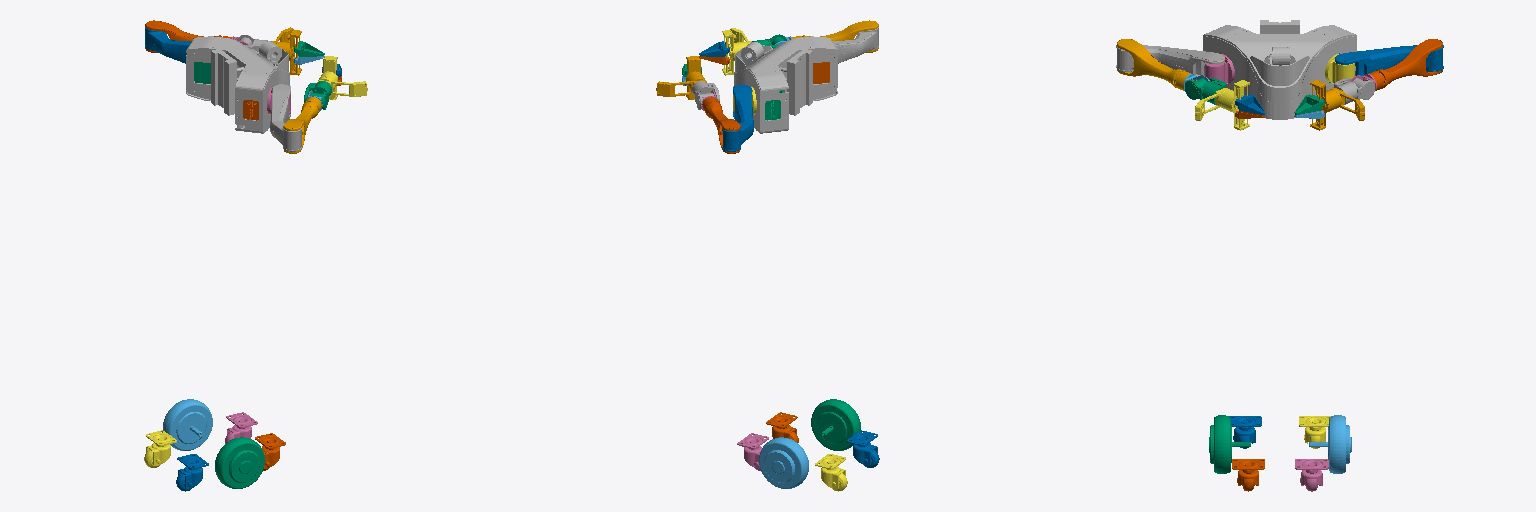
--- Facts derived from the render (not from the file) ---
The picture shows the robot from 3 angles, left to right: view 1: azimuth 30°, elevation 25°; view 2: azimuth 150°, elevation 25°; view 3: azimuth 270°, elevation 25°; orthographic projection.
Model mmk2 with 32 links and 31 joints (15 revolute, 1 continuous, 5 prismatic, 10 fixed), rooted at base_link, posed all joints at 0.
Visible links, largest first — view 1: slide_link, rgt_wheel_link, lft_wheel_link, right_link2, left_link2, right_link6, rgt_behind_wheel_link, lft_behind_wheel_link, right_link3, left_link6, lft_front_wheel_link, rgt_front_wheel_link (+1 smaller); view 2: slide_link, lft_wheel_link, rgt_wheel_link, left_link2, right_link2, left_link6, rgt_behind_wheel_link, lft_behind_wheel_link, left_link3, right_link6, rgt_front_wheel_link, lft_front_wheel_link (+1 smaller); view 3: slide_link, left_link2, right_link2, right_link3, left_link3, lft_wheel_link, rgt_wheel_link, left_link6, right_link6, lft_front_wheel_link, rgt_front_wheel_link, lft_behind_wheel_link (+4 smaller).
Boxes of the visible links, box(x1,y1,x2,y2) form: slide_link: box(186, 36, 290, 133); rgt_wheel_link: box(215, 437, 264, 488); lft_wheel_link: box(163, 399, 212, 450); right_link2: box(270, 84, 301, 151); left_link2: box(145, 27, 191, 63); right_link6: box(315, 56, 367, 99); rgt_behind_wheel_link: box(144, 430, 176, 467); lft_behind_wheel_link: box(176, 454, 208, 491); right_link3: box(283, 97, 321, 153); left_link6: box(272, 27, 301, 75); lft_front_wheel_link: box(225, 412, 257, 443); rgt_front_wheel_link: box(255, 433, 285, 470); slide_link: box(733, 36, 837, 133); lft_wheel_link: box(759, 437, 808, 488); rgt_wheel_link: box(811, 399, 860, 450); left_link2: box(722, 85, 753, 151); right_link2: box(832, 27, 878, 63); left_link6: box(656, 56, 708, 99); rgt_behind_wheel_link: box(815, 454, 847, 491); lft_behind_wheel_link: box(847, 430, 879, 467); left_link3: box(702, 97, 740, 153); right_link6: box(722, 28, 751, 75); rgt_front_wheel_link: box(766, 412, 798, 442); lft_front_wheel_link: box(737, 433, 768, 470); slide_link: box(1203, 20, 1356, 119); left_link2: box(1335, 45, 1443, 75); right_link2: box(1116, 45, 1224, 75); right_link3: box(1117, 39, 1196, 90); left_link3: box(1363, 39, 1442, 90); lft_wheel_link: box(1309, 415, 1351, 473); rgt_wheel_link: box(1209, 415, 1250, 473); left_link6: box(1310, 80, 1364, 130); right_link6: box(1195, 80, 1249, 130); lft_front_wheel_link: box(1295, 459, 1328, 491); rgt_front_wheel_link: box(1232, 459, 1264, 491); lft_behind_wheel_link: box(1229, 416, 1261, 448).
Size in the robot's own frame: 0.6187 by 0.927 by 1.42 metres.
26 mesh visuals loaded from 14 distinct referenced files (12 OBJ); not drawn: 2 (reference not matched to a file when rendering).

URDF robot description (mmk2):
<?xml version="1.0" ?>
<!-- =================================================================================== -->
<!-- |    This document was autogenerated by xacro from robot.xacro                    | -->
<!-- |    EDITING THIS FILE BY HAND IS NOT RECOMMENDED                                 | -->
<!-- =================================================================================== -->
<robot name="mmk2">
  <link name="base_link">
    <inertial>
      <origin xyz="-0.0400313721989715 -0.0226608008968248 0.756257223317173"/>
      <mass value="33.0267456398628"/>
      <inertia ixx="3.44838378637062" ixy="-0.00207943141138886" ixz="-0.0103091786755565" iyy="3.49493780774117" iyz="-0.00146679448998739" izz="0.21980548376876"/>
    </inertial>
    <visual>
      <geometry>
        <mesh filename="package://airbot_mmk2_description/meshes/base_link.obj"/>
      </geometry>
    </visual>
    <collision>
      <geometry>
        <mesh filename="package://airbot_mmk2_description/meshes/base_link.obj"/>
      </geometry>
    </collision>
  </link>
  <link name="lft_wheel_link">
    <inertial>
      <origin xyz="2.9309E-07 5.2077E-06 -0.029871"/>
      <mass value="1.1566"/>
      <inertia ixx="0.0021045" ixy="6.963E-10" ixz="-1.9831E-08" iyy="0.0021045" iyz="-3.5159E-07" izz="0.0035528"/>
    </inertial>
    <visual>
      <geometry>
        <mesh filename="package://airbot_mmk2_description/meshes/drive_wheel.obj"/>
      </geometry>
    </visual>
    <collision>
      <geometry>
        <mesh filename="package://airbot_mmk2_description/meshes/drive_wheel.obj"/>
      </geometry>
    </collision>
  </link>
  <joint name="lft_wheel_joint" type="continuous">
    <origin rpy="1.5708 1.5708 0" xyz="0 0.16325 0.08401"/>
    <parent link="base_link"/>
    <child link="lft_wheel_link"/>
    <axis xyz="0 0 -1"/>
  </joint>
  <link name="rgt_wheel_link">
    <inertial>
      <origin xyz="2.9312E-07 5.2196E-06 0.029871"/>
      <mass value="1.1566"/>
      <inertia ixx="0.0021045" ixy="-8.6762E-11" ixz="1.9824E-08" iyy="0.0021045" iyz="3.5159E-07" izz="0.0035528"/>
    </inertial>
    <visual>
      <geometry>
        <mesh filename="package://airbot_mmk2_description/meshes/drive_wheel.obj" scale="1 1 -1"/>
      </geometry>
    </visual>
    <collision>
      <geometry>
        <mesh filename="package://airbot_mmk2_description/meshes/drive_wheel.obj" scale="1 1 -1"/>
      </geometry>
    </collision>
  </link>
  <joint name="rgt_wheel_joint" type="revolute">
    <origin rpy="1.5708 1.5708 0" xyz="0 -0.16325 0.08401"/>
    <parent link="base_link"/>
    <child link="rgt_wheel_link"/>
    <axis xyz="0 0 1"/>
    <limit effort="6.5" lower="-3.1416" upper="3.1416" velocity="0.7"/>
  </joint>
  <link name="rgt_behind_wheel_link">
    <inertial>
      <origin xyz="0.0098797 -0.26998 -0.044087"/>
      <mass value="0.15002"/>
      <inertia ixx="0.00016534" ixy="1.4827E-07" ixz="-2.9264E-07" iyy="0.00014609" iyz="4.0633E-05" izz="9.3638E-05"/>
    </inertial>
    <visual>
      <geometry>
        <mesh filename="package://airbot_mmk2_description/meshes/support_wheel.obj"/>
      </geometry>
    </visual>
    <collision>
      <geometry>
        <mesh filename="package://airbot_mmk2_description/meshes/support_wheel.obj"/>
      </geometry>
    </collision>
  </link>
  <joint name="rgt_behind_wheel_joint" type="fixed">
    <origin xyz="-0.1315 0.1 0.097"/>
    <parent link="base_link"/>
    <child link="rgt_behind_wheel_link"/>
  </joint>
  <link name="lft_behind_wheel_link">
    <inertial>
      <origin xyz="-0.01012 -0.26998 -0.044087"/>
      <mass value="0.15002"/>
      <inertia ixx="0.00016534" ixy="1.4827E-07" ixz="-2.9264E-07" iyy="0.00014609" iyz="4.0633E-05" izz="9.3638E-05"/>
    </inertial>
    <visual>
      <geometry>
        <mesh filename="package://airbot_mmk2_description/meshes/support_wheel.obj"/>
      </geometry>
    </visual>
    <collision>
      <geometry>
        <mesh filename="package://airbot_mmk2_description/meshes/support_wheel.obj"/>
      </geometry>
    </collision>
  </link>
  <joint name="lft_behind_wheel_joint" type="fixed">
    <origin xyz="-0.1315 -0.1 0.097"/>
    <parent link="base_link"/>
    <child link="lft_behind_wheel_link"/>
  </joint>
  <link name="rgt_front_wheel_link">
    <inertial>
      <origin xyz="-0.01012 0.30602 -0.044087"/>
      <mass value="0.15002"/>
      <inertia ixx="0.00016534" ixy="1.4827E-07" ixz="-2.9264E-07" iyy="0.00014609" iyz="4.0633E-05" izz="9.3637E-05"/>
    </inertial>
    <visual>
      <geometry>
        <mesh filename="package://airbot_mmk2_description/meshes/support_wheel.obj"/>
      </geometry>
    </visual>
    <collision>
      <geometry>
        <mesh filename="package://airbot_mmk2_description/meshes/support_wheel.obj"/>
      </geometry>
    </collision>
  </link>
  <joint name="rgt_front_wheel_joint" type="fixed">
    <origin xyz="0.15482 -0.0895 0.097"/>
    <parent link="base_link"/>
    <child link="rgt_front_wheel_link"/>
  </joint>
  <link name="lft_front_wheel_link">
    <inertial>
      <origin xyz="0.0098797 0.30602 -0.044087"/>
      <mass value="0.15002"/>
      <inertia ixx="0.00016534" ixy="1.4827E-07" ixz="-2.9264E-07" iyy="0.00014609" iyz="4.0633E-05" izz="9.3637E-05"/>
    </inertial>
    <visual>
      <geometry>
        <mesh filename="package://airbot_mmk2_description/meshes/support_wheel.obj"/>
      </geometry>
    </visual>
    <collision>
      <geometry>
        <mesh filename="package://airbot_mmk2_description/meshes/support_wheel.obj"/>
      </geometry>
    </collision>
  </link>
  <joint name="lft_front_wheel_joint" type="fixed">
    <origin xyz="0.15482 0.0895 0.097"/>
    <parent link="base_link"/>
    <child link="lft_front_wheel_link"/>
  </joint>
  <link name="slide_link">
    <inertial>
      <origin xyz="-7.90494393625066E-05 0.067355217450789 0.10519083626064"/>
      <mass value="2.87043102920673"/>
      <inertia ixx="0.00899755064402379" ixy="6.09937870252811E-07" ixz="2.90775161414524E-06" iyy="0.0119634133355932" iyz="-0.000250919444280722" izz="0.00864817587777869"/>
    </inertial>
    <visual>
      <geometry>
        <mesh filename="package://airbot_mmk2_description/meshes/slide.obj"/>
      </geometry>
      <material name="">
        <color rgba="0.752941176470588 0.752941176470588 0.752941176470588 1"/>
      </material>
    </visual>
    <collision>
      <geometry>
        <mesh filename="package://airbot_mmk2_description/meshes/slide.obj"/>
      </geometry>
    </collision>
  </link>
  <joint name="slide_joint" type="prismatic">
    <origin rpy="3.1416 0 1.5708" xyz="0.033942 -0.00025 1.406"/>
    <parent link="base_link"/>
    <child link="slide_link"/>
    <axis xyz="0 0 1"/>
    <limit effort="5" lower="-0.04" upper="0.87" velocity="0.3"/>
  </joint>
  <link name="head_yaw_link">
    <inertial>
      <origin xyz="0.0118490941462296 0.000491254783341499 0.0390231494943873"/>
      <mass value="0.263127360420809"/>
      <inertia ixx="0.000185798854547827" ixy="2.64309797822853E-07" ixz="-2.93582511724902E-05" iyy="0.000173833362201622" iyz="-2.8054841555532E-06" izz="9.38655776831082E-05"/>
    </inertial>
    <visual>
      <geometry>
        <mesh filename="package://airbot_mmk2_description/meshes/head_yaw.obj"/>
      </geometry>
      <material name="">
        <color rgba="0.752941176470588 0.752941176470588 0.752941176470588 1"/>
      </material>
    </visual>
    <collision>
      <geometry>
        <mesh filename="package://airbot_mmk2_description/meshes/head_yaw.obj"/>
      </geometry>
    </collision>
  </link>
  <joint name="head_yaw_joint" type="revolute">
    <origin rpy="3.1416 0 0" xyz="0 0.1735 0.07242"/>
    <parent link="slide_link"/>
    <child link="head_yaw_link"/>
    <axis xyz="0 0 1"/>
    <limit effort="2" lower="-0.5" upper="0.5" velocity="0.2"/>
  </joint>
  <link name="head_pitch_link">
    <inertial>
      <origin xyz="0.0244659096221799 -0.108421751901101 -0.00311687659834824"/>
      <mass value="0.500765947013434"/>
      <inertia ixx="0.00157924187002826" ixy="2.16781765858799E-05" ixz="-1.02638171835218E-06" iyy="0.000804096450222595" iyz="1.48815549401623E-05" izz="0.00113048749298996"/>
    </inertial>
    <visual>
      <geometry>
        <mesh filename="package://airbot_mmk2_description/meshes/head_pitch.obj"/>
      </geometry>
      <material name="">
        <color rgba="0.752941176470588 0.752941176470588 0.752941176470588 1"/>
      </material>
    </visual>
    <collision>
      <geometry>
        <mesh filename="package://airbot_mmk2_description/meshes/head_pitch.obj"/>
      </geometry>
    </collision>
  </link>
  <joint name="head_pitch_joint" type="revolute">
    <origin rpy="-1.5708 0 -1.5397" xyz="0.00099952 3.1059E-05 0.058"/>
    <parent link="head_yaw_link"/>
    <child link="head_pitch_link"/>
    <axis xyz="0 0 1"/>
    <limit effort="2" lower="-0.16" upper="1.18" velocity="0.2"/>
  </joint>
  <!-- left arm -->
  <joint name="left_arm_fixed_joint" type="fixed">
    <origin rpy="1.57079633 0 2.356194490192345" xyz="0.10174 0.02283 0.09475"/>
    <parent link="slide_link"/>
    <child link="left_base_link"/>
  </joint>
  <link name="left_base_link">
    <inertial>
      <origin xyz="-0.010729 -0.00017015 0.041712"/>
      <mass value="0.77705"/>
      <inertia ixx="0.0008454" ixy="-7.5E-06" ixz="2.06E-05" iyy="0.0011821" iyz="-6.4E-06" izz="0.0012443"/>
    </inertial>
    <visual>
      <geometry>
        <mesh filename="package://airbot_play_description/meshes/arm_base.obj"/>
      </geometry>
    </visual>
    <collision>
      <geometry>
        <mesh filename="package://airbot_play_description/meshes/arm_base.obj"/>
      </geometry>
    </collision>
  </link>
  <link name="left_link1">
    <inertial>
      <origin xyz="7.9126E-05 -0.002527 -0.0041359"/>
      <mass value="0.54639"/>
      <inertia ixx="0.0003462" ixy="0" ixz="-1.4E-06" iyy="0.0002863" iyz="-1.1E-06" izz="0.0003255"/>
    </inertial>
    <visual>
      <geometry>
        <mesh filename="package://airbot_play_description/meshes/link1.obj"/>
      </geometry>
    </visual>
    <collision>
      <geometry>
        <mesh filename="package://airbot_play_description/meshes/link1.obj"/>
      </geometry>
    </collision>
  </link>
  <joint name="left_joint1" type="revolute">
    <origin xyz="0 0 0.1172"/>
    <parent link="left_base_link"/>
    <child link="left_link1"/>
    <axis xyz="0 0 1"/>
    <limit effort="18" lower="-3.14" upper="2.09" velocity="3.14"/>
  </joint>
  <link name="left_link2">
    <inertial>
      <origin xyz="0.22493 0.0047721 0.008023"/>
      <mass value="0.64621"/>
      <inertia ixx="0.0004901" ixy="0.0005229" ixz="-0.0002434" iyy="0.0050391" iyz="-2.95E-05" izz="0.0051052"/>
    </inertial>
    <visual>
      <geometry>
        <mesh filename="package://airbot_play_description/meshes/link2.obj"/>
      </geometry>
    </visual>
    <collision>
      <geometry>
        <mesh filename="package://airbot_play_description/meshes/link2.obj"/>
      </geometry>
    </collision>
  </link>
  <joint name="left_joint2" type="revolute">
    <origin rpy="1.5708 -2.7549 0"/>
    <parent link="left_link1"/>
    <child link="left_link2"/>
    <axis xyz="0 0 1"/>
    <limit effort="18" lower="-2.96" upper="0.17" velocity="3.14"/>
  </joint>
  <link name="left_link3">
    <inertial>
      <origin xyz="0.16813 -5.5576E-05 0.0031184"/>
      <mass value="0.26829"/>
      <inertia ixx="0.000245" ixy="-4E-07" ixz="-0.0001263" iyy="0.0031527" iyz="-1E-07" izz="0.0030895"/>
    </inertial>
    <visual>
      <geometry>
        <mesh filename="package://airbot_play_description/meshes/link3.obj"/>
      </geometry>
    </visual>
    <collision>
      <geometry>
        <mesh filename="package://airbot_play_description/meshes/link3.obj"/>
      </geometry>
    </collision>
  </link>
  <joint name="left_joint3" type="revolute">
    <origin rpy="0 0 -2.7549" xyz="0.27009 0 0"/>
    <parent link="left_link2"/>
    <child link="left_link3"/>
    <axis xyz="0 0 1"/>
    <limit effort="18" lower="-0.087" upper="3.14" velocity="3.14"/>
  </joint>
  <link name="left_link4">
    <inertial>
      <origin xyz="5.2436E-06 0.00040412 -0.03228"/>
      <mass value="0.34876"/>
      <inertia ixx="0.0004235" ixy="0" ixz="4.7E-06" iyy="0.000412" iyz="-1E-07" izz="0.0001269"/>
    </inertial>
    <visual>
      <geometry>
        <mesh filename="package://airbot_play_description/meshes/link4.obj"/>
      </geometry>
    </visual>
    <collision>
      <geometry>
        <mesh filename="package://airbot_play_description/meshes/link4.obj"/>
      </geometry>
    </collision>
  </link>
  <joint name="left_joint4" type="revolute">
    <origin rpy="3.1416 -1.5708 0" xyz="0.29015 0 0"/>
    <parent link="left_link3"/>
    <child link="left_link4"/>
    <axis xyz="0 0 1"/>
    <limit effort="300" lower="-2.96" upper="2.96" velocity="6.28"/>
  </joint>
  <link name="left_link5">
    <inertial>
      <origin xyz="8.3328E-06 0.026148 0.002525"/>
      <mass value="0.36132"/>
      <inertia ixx="0.0001825" ixy="0" ixz="-3.29E-05" iyy="0.0004677" iyz="0" izz="0.0004286"/>
    </inertial>
    <visual>
      <geometry>
        <mesh filename="package://airbot_play_description/meshes/link5.obj"/>
      </geometry>
    </visual>
    <collision>
      <geometry>
        <mesh filename="package://airbot_play_description/meshes/link5.obj"/>
      </geometry>
    </collision>
  </link>
  <joint name="left_joint5" type="revolute">
    <origin rpy="1.5708 0 0"/>
    <parent link="left_link4"/>
    <child link="left_link5"/>
    <axis xyz="0 0 1"/>
    <limit effort="300" lower="-1.74" upper="1.74" velocity="6.28"/>
  </joint>
  <link name="left_link6">
    <inertial>
      <origin xyz="-0.0047053 7.3857E-05 -0.12293"/>
      <mass value="0.53855"/>
      <inertia ixx="5E-05" ixy="0" ixz="0" iyy="5E-05" iyz="0" izz="3.85E-05"/>
    </inertial>
    <visual>
      <geometry>
        <mesh filename="package://airbot_play_description/meshes/link6.obj"/>
      </geometry>
    </visual>
    <collision>
      <geometry>
        <mesh filename="package://airbot_play_description/meshes/link6.obj"/>
      </geometry>
    </collision>
  </link>
  <joint name="left_joint6" type="revolute">
    <origin rpy="-1.5708 1.5708 0" xyz="0 0.23645 0"/>
    <parent link="left_link5"/>
    <child link="left_link6"/>
    <axis xyz="0 0 1"/>
    <limit effort="300" lower="-3.14" upper="3.14" velocity="6.28"/>
  </joint>
  <link name="left_left">
    <inertial>
      <origin xyz="-0.049039 -0.0096764 0.00038868"/>
      <mass value="0.061803"/>
      <inertia ixx="1.8946E-05" ixy="-1.3168E-06" ixz="-6.5528E-07" iyy="2.7277E-05" iyz="-2.0801E-07" izz="1.1981E-05"/>
    </inertial>
    <visual>
      <geometry>
        <mesh filename="package://airbot_play_description/meshes/gripper.obj" scale="1 -1 1"/>
      </geometry>
    </visual>
    <collision>
      <geometry>
        <mesh filename="package://airbot_play_description/meshes/gripper.obj" scale="1 -1 1"/>
      </geometry>
    </collision>
  </link>
  <joint name="left_gripper_joint" type="prismatic">
    <origin rpy="0 -1.5708 0"/>
    <parent link="left_link6"/>
    <child link="left_left"/>
    <axis xyz="0 1 0"/>
    <limit effort="100" lower="0" upper="0.04" velocity="2"/>
  </joint>
  <link name="left_right">
    <inertial>
      <origin xyz="-0.048742 0.0096369 0.00044322"/>
      <mass value="0.0626"/>
      <inertia ixx="1.915E-05" ixy="1.343E-06" ixz="-6.8259E-07" iyy="2.7722E-05" iyz="2.0748E-07" izz="1.2248E-05"/>
    </inertial>
    <visual>
      <geometry>
        <mesh filename="package://airbot_play_description/meshes/gripper.obj"/>
      </geometry>
    </visual>
    <collision>
      <geometry>
        <mesh filename="package://airbot_play_description/meshes/gripper.obj"/>
      </geometry>
    </collision>
  </link>
  <joint name="left_endright" type="prismatic">
    <origin rpy="0 -1.5708 0"/>
    <parent link="left_link6"/>
    <child link="left_right"/>
    <axis xyz="0 -1 0"/>
    <limit effort="100" lower="0" upper="0.04" velocity="2"/>
    <mimic joint="left_gripper_joint" multiplier="1" offset="0"/>
  </joint>
  <link name="left_gripper_center"/>
  <joint name="left_joint_custom_end" type="fixed">
    <origin rpy="0 -1.5708 0" xyz="0 0 0.02"/>
    <parent link="left_link6"/>
    <child link="left_gripper_center"/>
  </joint>
  <link name="left_camera_link"/>
  <joint name="left_camera_joint" type="fixed">
    <origin rpy="0 -1.046 0" xyz="-0.105 0 -0.111"/>
    <parent link="left_link6"/>
    <child link="left_camera_link"/>
  </joint>
  <!-- right arm -->
  <joint name="right_arm_fixed_joint" type="fixed">
    <origin rpy="-1.57079633 0 0.7853981633974483" xyz="-0.10174 0.02283 0.09475"/>
    <parent link="slide_link"/>
    <child link="right_base_link"/>
  </joint>
  <link name="right_base_link">
    <inertial>
      <origin xyz="-0.010729 -0.00017015 0.041712"/>
      <mass value="0.77705"/>
      <inertia ixx="0.0008454" ixy="-7.5E-06" ixz="2.06E-05" iyy="0.0011821" iyz="-6.4E-06" izz="0.0012443"/>
    </inertial>
    <visual>
      <geometry>
        <mesh filename="package://airbot_play_description/meshes/arm_base.obj"/>
      </geometry>
    </visual>
    <collision>
      <geometry>
        <mesh filename="package://airbot_play_description/meshes/arm_base.obj"/>
      </geometry>
    </collision>
  </link>
  <link name="right_link1">
    <inertial>
      <origin xyz="7.9126E-05 -0.002527 -0.0041359"/>
      <mass value="0.54639"/>
      <inertia ixx="0.0003462" ixy="0" ixz="-1.4E-06" iyy="0.0002863" iyz="-1.1E-06" izz="0.0003255"/>
    </inertial>
    <visual>
      <geometry>
        <mesh filename="package://airbot_play_description/meshes/link1.obj"/>
      </geometry>
    </visual>
    <collision>
      <geometry>
        <mesh filename="package://airbot_play_description/meshes/link1.obj"/>
      </geometry>
    </collision>
  </link>
  <joint name="right_joint1" type="revolute">
    <origin xyz="0 0 0.1172"/>
    <parent link="right_base_link"/>
    <child link="right_link1"/>
    <axis xyz="0 0 1"/>
    <limit effort="18" lower="-3.14" upper="2.09" velocity="3.14"/>
  </joint>
  <link name="right_link2">
    <inertial>
      <origin xyz="0.22493 0.0047721 0.008023"/>
      <mass value="0.64621"/>
      <inertia ixx="0.0004901" ixy="0.0005229" ixz="-0.0002434" iyy="0.0050391" iyz="-2.95E-05" izz="0.0051052"/>
    </inertial>
    <visual>
      <geometry>
        <mesh filename="package://airbot_play_description/meshes/link2.obj"/>
      </geometry>
    </visual>
    <collision>
      <geometry>
        <mesh filename="package://airbot_play_description/meshes/link2.obj"/>
      </geometry>
    </collision>
  </link>
  <joint name="right_joint2" type="revolute">
    <origin rpy="1.5708 -2.7549 0"/>
    <parent link="right_link1"/>
    <child link="right_link2"/>
    <axis xyz="0 0 1"/>
    <limit effort="18" lower="-2.96" upper="0.17" velocity="3.14"/>
  </joint>
  <link name="right_link3">
    <inertial>
      <origin xyz="0.16813 -5.5576E-05 0.0031184"/>
      <mass value="0.26829"/>
      <inertia ixx="0.000245" ixy="-4E-07" ixz="-0.0001263" iyy="0.0031527" iyz="-1E-07" izz="0.0030895"/>
    </inertial>
    <visual>
      <geometry>
        <mesh filename="package://airbot_play_description/meshes/link3.obj"/>
      </geometry>
    </visual>
    <collision>
      <geometry>
        <mesh filename="package://airbot_play_description/meshes/link3.obj"/>
      </geometry>
    </collision>
  </link>
  <joint name="right_joint3" type="revolute">
    <origin rpy="0 0 -2.7549" xyz="0.27009 0 0"/>
    <parent link="right_link2"/>
    <child link="right_link3"/>
    <axis xyz="0 0 1"/>
    <limit effort="18" lower="-0.087" upper="3.14" velocity="3.14"/>
  </joint>
  <link name="right_link4">
    <inertial>
      <origin xyz="5.2436E-06 0.00040412 -0.03228"/>
      <mass value="0.34876"/>
      <inertia ixx="0.0004235" ixy="0" ixz="4.7E-06" iyy="0.000412" iyz="-1E-07" izz="0.0001269"/>
    </inertial>
    <visual>
      <geometry>
        <mesh filename="package://airbot_play_description/meshes/link4.obj"/>
      </geometry>
    </visual>
    <collision>
      <geometry>
        <mesh filename="package://airbot_play_description/meshes/link4.obj"/>
      </geometry>
    </collision>
  </link>
  <joint name="right_joint4" type="revolute">
    <origin rpy="3.1416 -1.5708 0" xyz="0.29015 0 0"/>
    <parent link="right_link3"/>
    <child link="right_link4"/>
    <axis xyz="0 0 1"/>
    <limit effort="300" lower="-2.96" upper="2.96" velocity="6.28"/>
  </joint>
  <link name="right_link5">
    <inertial>
      <origin xyz="8.3328E-06 0.026148 0.002525"/>
      <mass value="0.36132"/>
      <inertia ixx="0.0001825" ixy="0" ixz="-3.29E-05" iyy="0.0004677" iyz="0" izz="0.0004286"/>
    </inertial>
    <visual>
      <geometry>
        <mesh filename="package://airbot_play_description/meshes/link5.obj"/>
      </geometry>
    </visual>
    <collision>
      <geometry>
        <mesh filename="package://airbot_play_description/meshes/link5.obj"/>
      </geometry>
    </collision>
  </link>
  <joint name="right_joint5" type="revolute">
    <origin rpy="1.5708 0 0"/>
    <parent link="right_link4"/>
    <child link="right_link5"/>
    <axis xyz="0 0 1"/>
    <limit effort="300" lower="-1.74" upper="1.74" velocity="6.28"/>
  </joint>
  <link name="right_link6">
    <inertial>
      <origin xyz="-0.0047053 7.3857E-05 -0.12293"/>
      <mass value="0.53855"/>
      <inertia ixx="5E-05" ixy="0" ixz="0" iyy="5E-05" iyz="0" izz="3.85E-05"/>
    </inertial>
    <visual>
      <geometry>
        <mesh filename="package://airbot_play_description/meshes/link6.obj"/>
      </geometry>
    </visual>
    <collision>
      <geometry>
        <mesh filename="package://airbot_play_description/meshes/link6.obj"/>
      </geometry>
    </collision>
  </link>
  <joint name="right_joint6" type="revolute">
    <origin rpy="-1.5708 1.5708 0" xyz="0 0.23645 0"/>
    <parent link="right_link5"/>
    <child link="right_link6"/>
    <axis xyz="0 0 1"/>
    <limit effort="300" lower="-3.14" upper="3.14" velocity="6.28"/>
  </joint>
  <link name="right_left">
    <inertial>
      <origin xyz="-0.049039 -0.0096764 0.00038868"/>
      <mass value="0.061803"/>
      <inertia ixx="1.8946E-05" ixy="-1.3168E-06" ixz="-6.5528E-07" iyy="2.7277E-05" iyz="-2.0801E-07" izz="1.1981E-05"/>
    </inertial>
    <visual>
      <geometry>
        <mesh filename="package://airbot_play_description/meshes/gripper.obj" scale="1 -1 1"/>
      </geometry>
    </visual>
    <collision>
      <geometry>
        <mesh filename="package://airbot_play_description/meshes/gripper.obj" scale="1 -1 1"/>
      </geometry>
    </collision>
  </link>
  <joint name="right_gripper_joint" type="prismatic">
    <origin rpy="0 -1.5708 0"/>
    <parent link="right_link6"/>
    <child link="right_left"/>
    <axis xyz="0 1 0"/>
    <limit effort="100" lower="0" upper="0.04" velocity="2"/>
  </joint>
  <link name="right_right">
    <inertial>
      <origin xyz="-0.048742 0.0096369 0.00044322"/>
      <mass value="0.0626"/>
      <inertia ixx="1.915E-05" ixy="1.343E-06" ixz="-6.8259E-07" iyy="2.7722E-05" iyz="2.0748E-07" izz="1.2248E-05"/>
    </inertial>
    <visual>
      <geometry>
        <mesh filename="package://airbot_play_description/meshes/gripper.obj"/>
      </geometry>
    </visual>
    <collision>
      <geometry>
        <mesh filename="package://airbot_play_description/meshes/gripper.obj"/>
      </geometry>
    </collision>
  </link>
  <joint name="right_endright" type="prismatic">
    <origin rpy="0 -1.5708 0"/>
    <parent link="right_link6"/>
    <child link="right_right"/>
    <axis xyz="0 -1 0"/>
    <limit effort="100" lower="0" upper="0.04" velocity="2"/>
    <mimic joint="right_gripper_joint" multiplier="1" offset="0"/>
  </joint>
  <link name="right_gripper_center"/>
  <joint name="right_joint_custom_end" type="fixed">
    <origin rpy="0 -1.5708 0" xyz="0 0 0.02"/>
    <parent link="right_link6"/>
    <child link="right_gripper_center"/>
  </joint>
  <link name="right_camera_link"/>
  <joint name="right_camera_joint" type="fixed">
    <origin rpy="0 -1.046 0" xyz="-0.105 0 -0.111"/>
    <parent link="right_link6"/>
    <child link="right_camera_link"/>
  </joint>
</robot>
